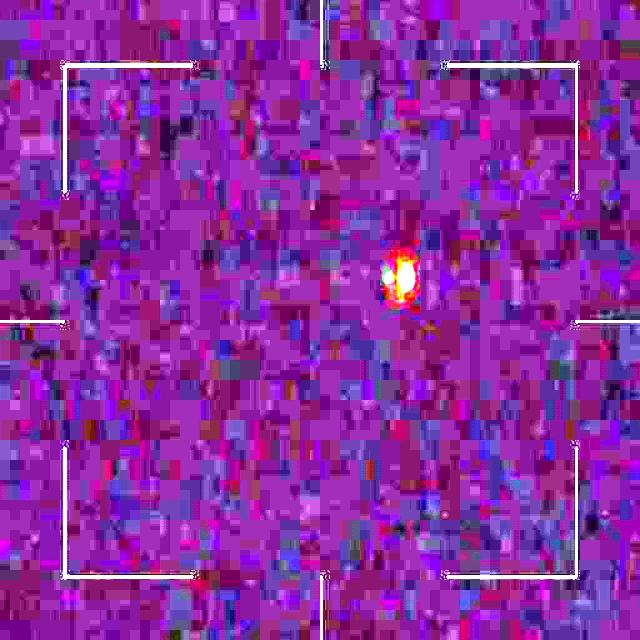bird: (380, 255, 418, 306)
